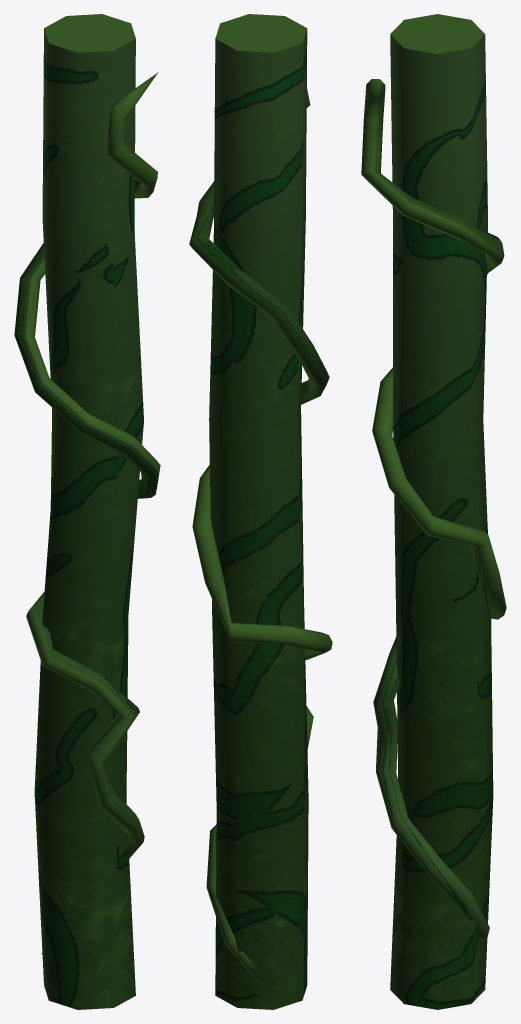
Rendered from liaan2.FBX.
3 renders of one model, left to right at view 1: azimuth 30°, elevation 25°; view 2: azimuth 150°, elevation 25°; view 3: azimuth 270°, elevation 25°, orthographic.
Visible parts, largest first — view 1: Cylinder010, Cylinder011; view 2: Cylinder010, Cylinder011; view 3: Cylinder010, Cylinder011.
Part boxes in pixels (x1,y1,x2,y2): Cylinder010: (34,14,143,1009); Cylinder011: (14,72,160,954); Cylinder010: (209,14,308,1009); Cylinder011: (189,89,332,987); Cylinder010: (390,14,493,1009); Cylinder011: (361,79,506,939).
Size of the model in its own units: 28.38 by 204 by 28.13.
